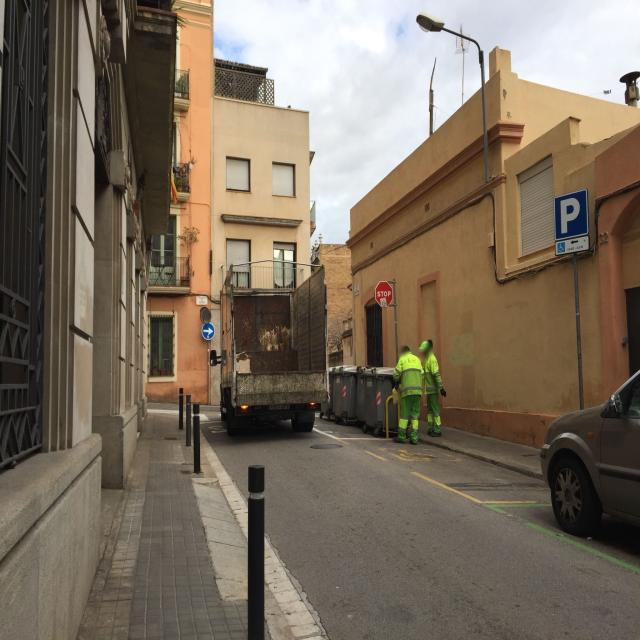car: (539, 352, 640, 548)
